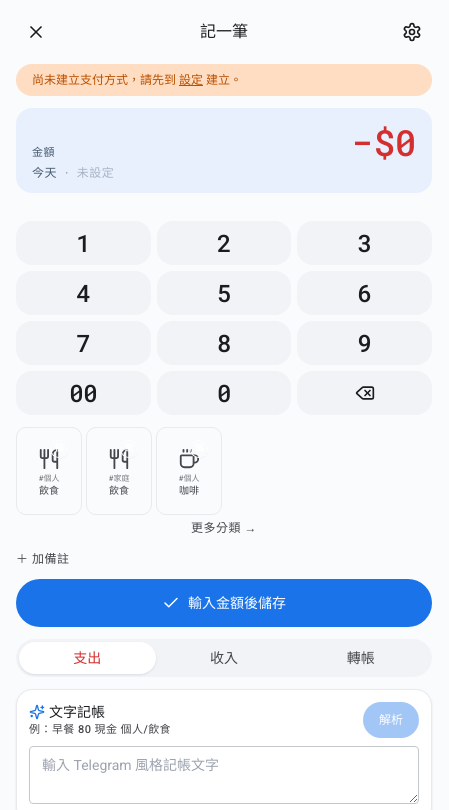
QuickEntryPage (M3 v2.0) › shows banner and blocks submit when no payment methods exist
expect the text "尚未建立支付方式，請先到 設定 建立。" is shown: met, box x1=16 y1=64 x2=432 y2=96
Step 1. Click the button "1" → (83, 243), box x1=16 y1=221 x2=151 y2=265
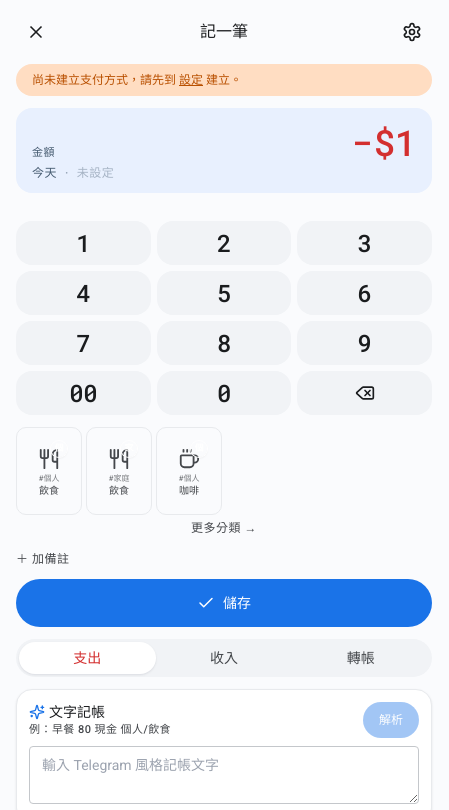
Step 2. Click the button "個 #個人 飲食" → (49, 471), box x1=16 y1=427 x2=82 y2=515
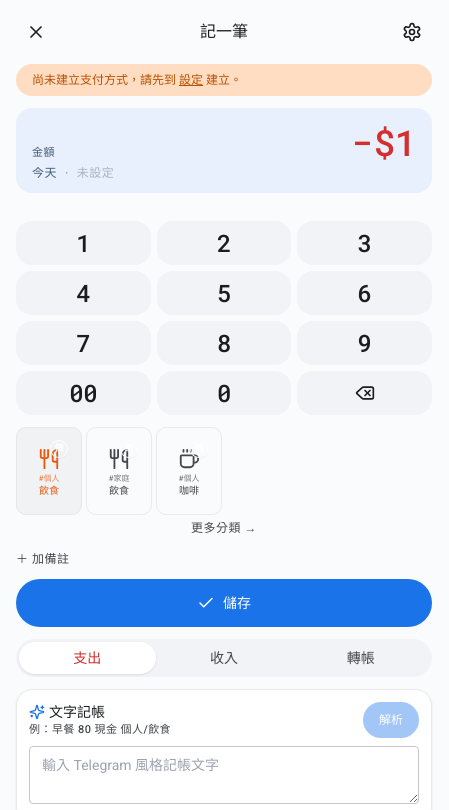
Step 3. Click the button "儲存" → (224, 603), box x1=16 y1=579 x2=432 y2=627
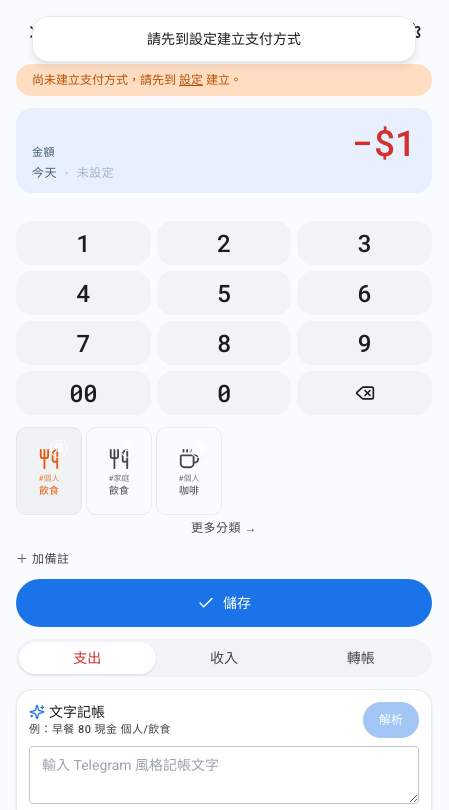
expect the text "請先到設定建立支付方式" is shown: met, box x1=147 y1=29 x2=301 y2=49
